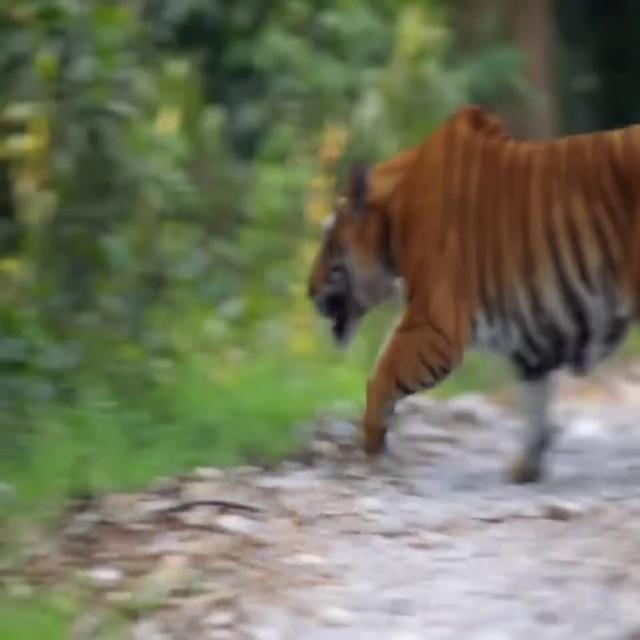tiger: (306, 102, 640, 452)
